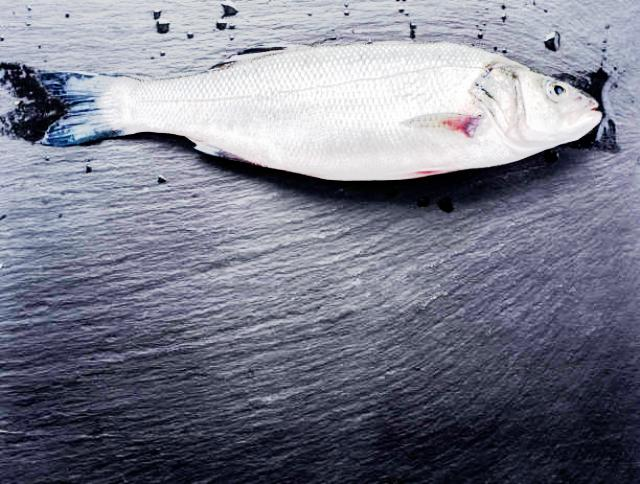Healthy Fish: (37, 43, 607, 184)
